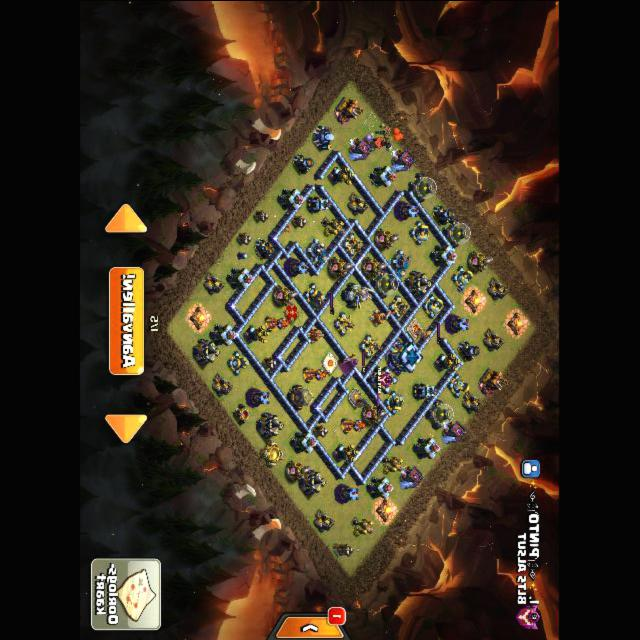AD: (434, 352, 462, 371), (333, 443, 361, 462), (328, 165, 356, 184), (243, 325, 271, 343)
AirSweeper: (370, 309, 392, 327), (307, 325, 325, 343)
BombTower: (307, 196, 333, 212), (413, 383, 438, 398)
Canon: (227, 350, 250, 375), (304, 282, 326, 308), (453, 265, 475, 290), (449, 373, 471, 398), (423, 293, 444, 318), (384, 389, 405, 414), (411, 220, 431, 245)
ClanCastle: (367, 366, 399, 393)
Eagle: (341, 282, 374, 308)
Inferno: (303, 367, 328, 382), (265, 316, 290, 331), (341, 418, 366, 433)
KingPad: (408, 318, 424, 340)
Mortar: (293, 153, 315, 174), (459, 340, 481, 361), (433, 204, 455, 225), (254, 238, 275, 259)
QueenPad: (285, 299, 301, 322)
RcPad: (350, 388, 364, 406)
Scattershot: (390, 249, 413, 277), (305, 238, 328, 263)
TH13: (387, 341, 425, 372)
WardenPad: (323, 353, 338, 373)
WizzTower: (446, 315, 472, 333), (284, 258, 309, 276), (246, 388, 271, 406), (395, 202, 420, 220), (335, 484, 360, 502)
Xbow: (361, 334, 384, 359), (344, 233, 366, 256), (390, 296, 411, 320), (337, 312, 357, 335)
